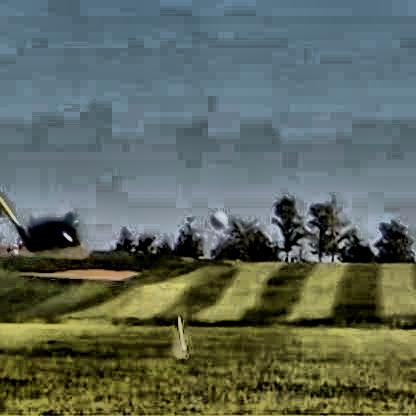golfball: (207, 207, 225, 227)
